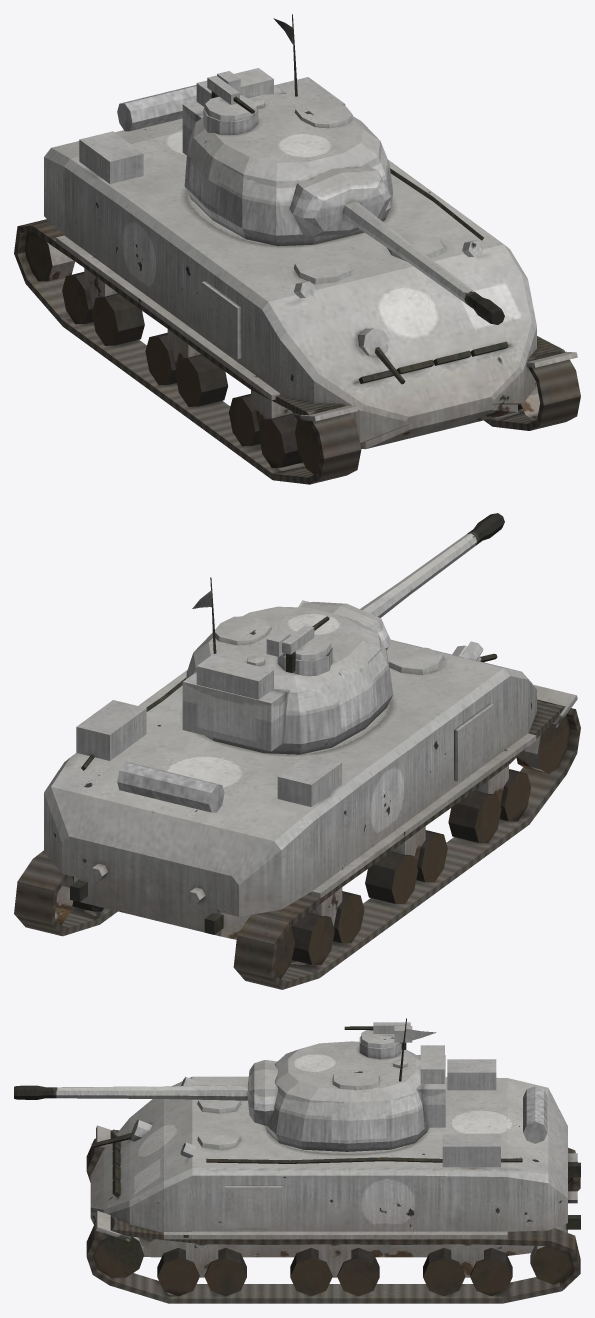
The model's file is tank.glb.
3 renders of one model, top to bottom at view 1: azimuth 30°, elevation 25°; view 2: azimuth 150°, elevation 25°; view 3: azimuth 270°, elevation 25°, orthographic. The views are drawn at different scales.
Visible parts, largest first — view 1: tank_LOD0; view 2: tank_LOD0; view 3: tank_LOD0.
Part boxes in pixels (x1=…): tank_LOD0: x1=14, y1=14, x2=580, y2=484; tank_LOD0: x1=14, y1=513, x2=580, y2=989; tank_LOD0: x1=14, y1=1018, x2=580, y2=1303.
Size of what is drawn, in the model's own units: 2.99 by 3.4 by 6.96.
1 material, 1 textured.
